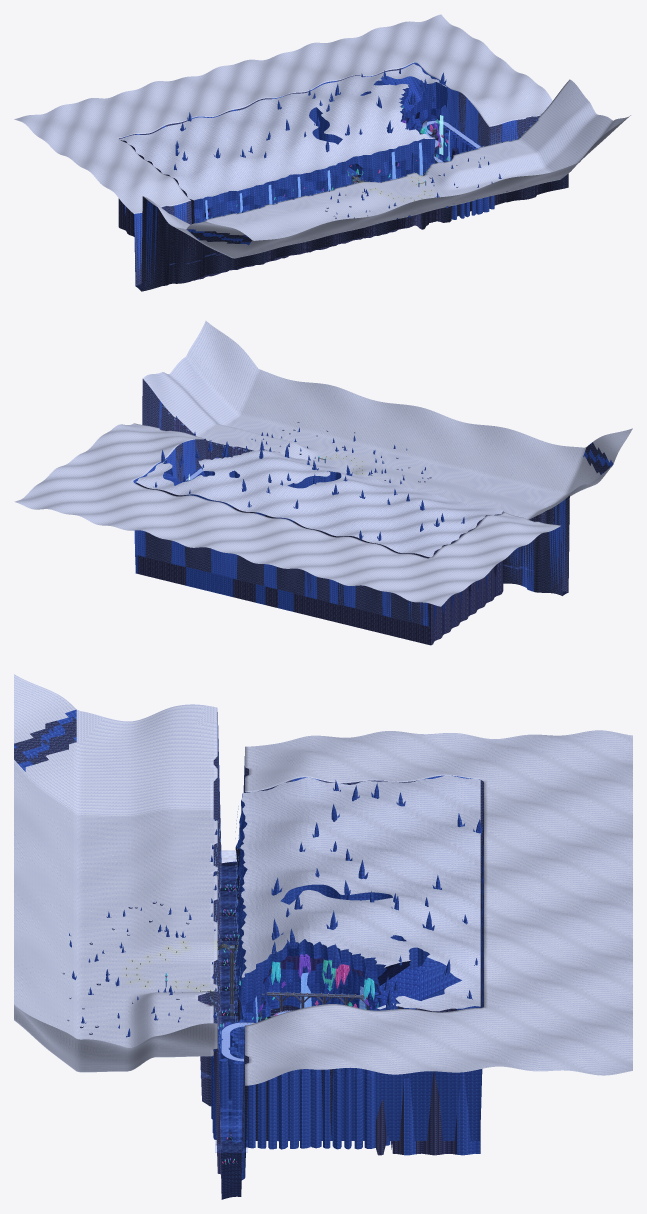
The picture shows the model from 3 angles, top to bottom: view 1: azimuth 30°, elevation 25°; view 2: azimuth 150°, elevation 25°; view 3: azimuth 270°, elevation 25°; orthographic projection. The views are drawn at different scales.
Visible parts, largest first — view 1: Land, Glacier; view 2: Land, Glacier; view 3: Land, Glacier, Cathedral visual 0 0, Fallen Ice 11 -1, Fallen Ice 6 -1, Fallen Ice 18 -1, Fallen Ice 12 -1, Fallen Ice 9 -1, Fallen Ice 19 -1, Fallen Ice 7 -1.
Part boxes in pixels (<box>): Land: <box>14,14,630,291</box>; Glacier: <box>118,63,447,280</box>; Land: <box>14,320,632,626</box>; Glacier: <box>135,449,503,645</box>; Land: <box>14,674,632,1199</box>; Glacier: <box>234,775,480,1155</box>; Cathedral visual 0 0: <box>258,954,369,1021</box>; Fallen Ice 11 -1: <box>310,1069,321,1148</box>; Fallen Ice 6 -1: <box>364,1069,375,1148</box>; Fallen Ice 18 -1: <box>232,1061,243,1142</box>; Fallen Ice 12 -1: <box>300,1069,310,1148</box>; Fallen Ice 9 -1: <box>332,1068,341,1149</box>; Fallen Ice 19 -1: <box>218,1058,228,1141</box>; Fallen Ice 7 -1: <box>354,1068,362,1149</box>.
Bounding box in the file's own units: 1620 × 467 × 1260.
29 materials, 29 textured.
